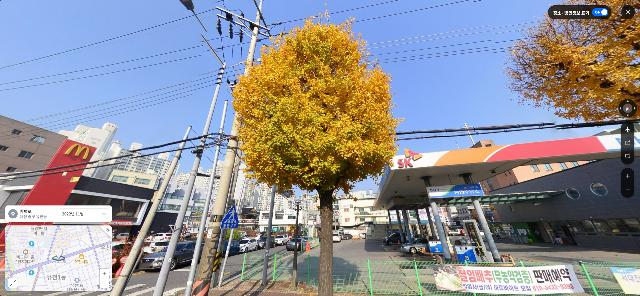ginkgo: (227, 3, 406, 296), (501, 0, 640, 124)
